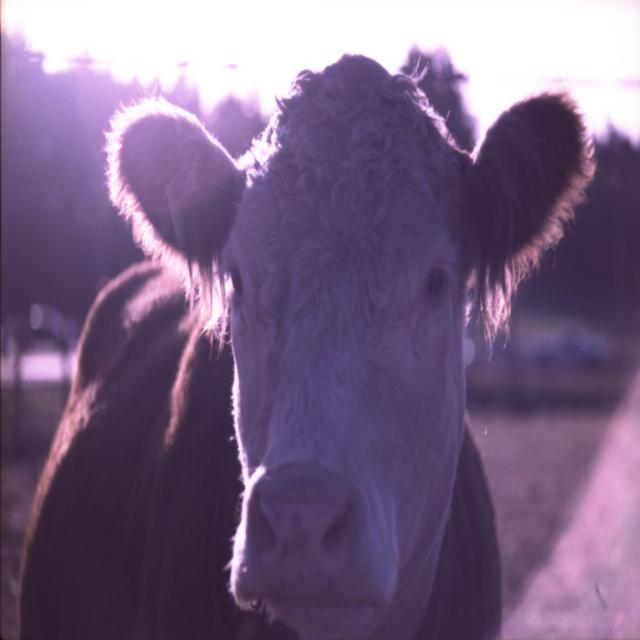Cattle: (17, 51, 587, 606)
